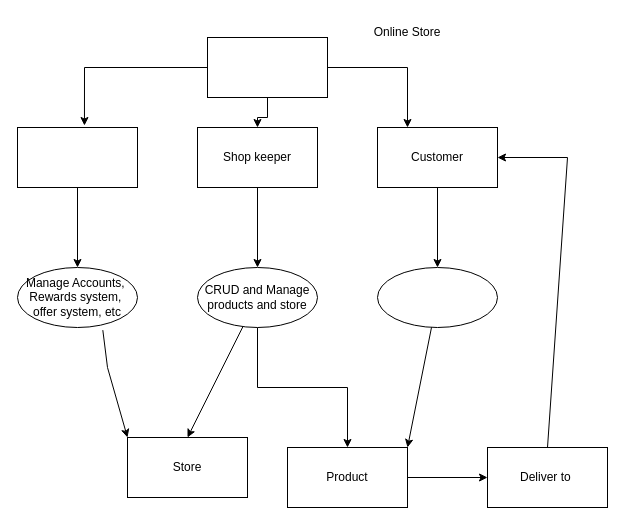
This 625x525 diagram has some shape labels left out. Here are the shapes that lost their labels. From the top down, the centre of each, then its label:
At (x=267, y=67): "Account".
At (x=77, y=157): "Admin".
At (x=437, y=297): "Buy/req /view /product".
